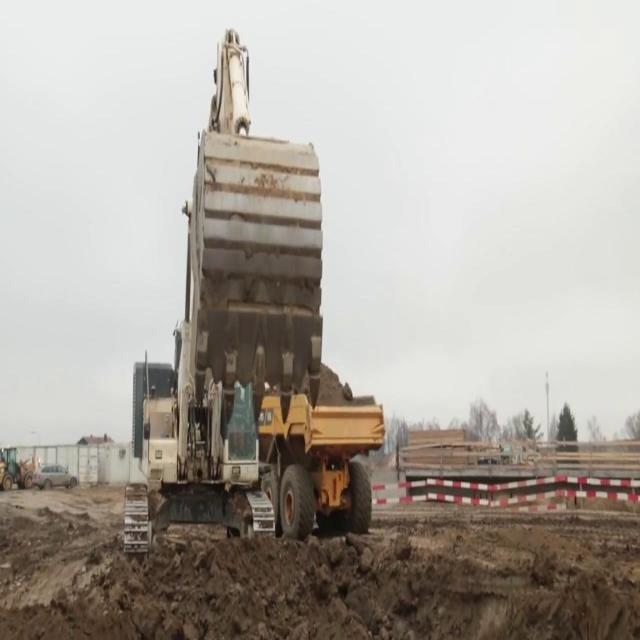Dump Truck: (258, 388, 386, 540)
Excavator: (123, 29, 323, 556)
Loader: (0, 446, 34, 489)
